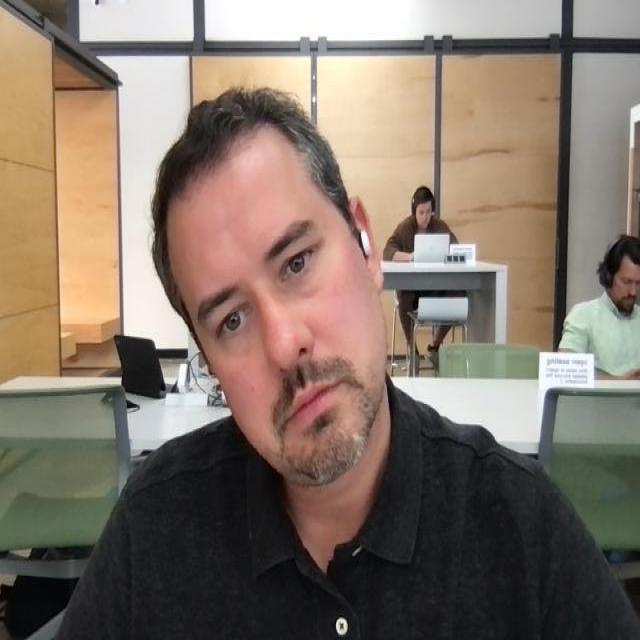face: (151, 86, 392, 486), (598, 233, 640, 311), (411, 184, 435, 232)
